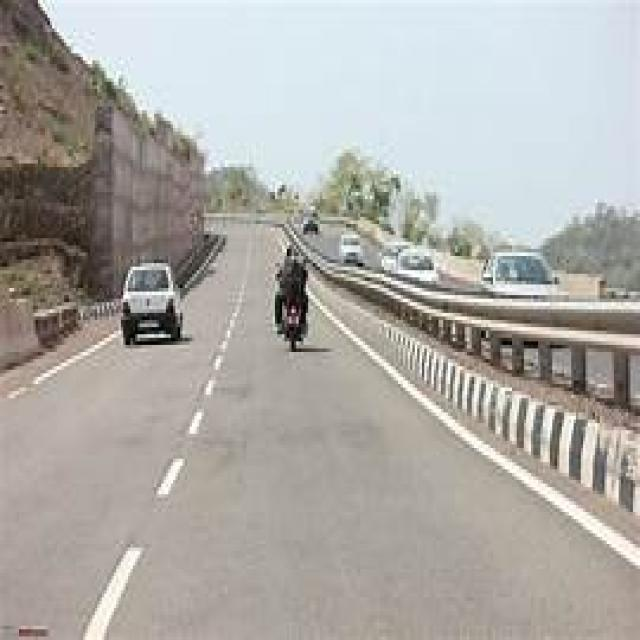Car: (121, 264, 180, 342), (491, 253, 551, 295), (381, 244, 431, 282), (341, 234, 361, 263)
Two Wheeler: (284, 298, 301, 350)
